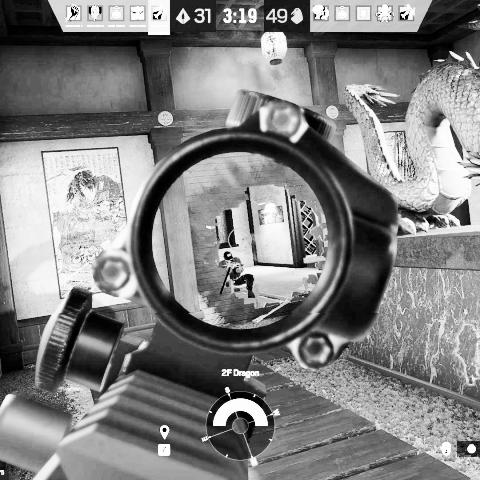Character: (217, 249, 257, 299)
Head: (224, 250, 234, 263)
